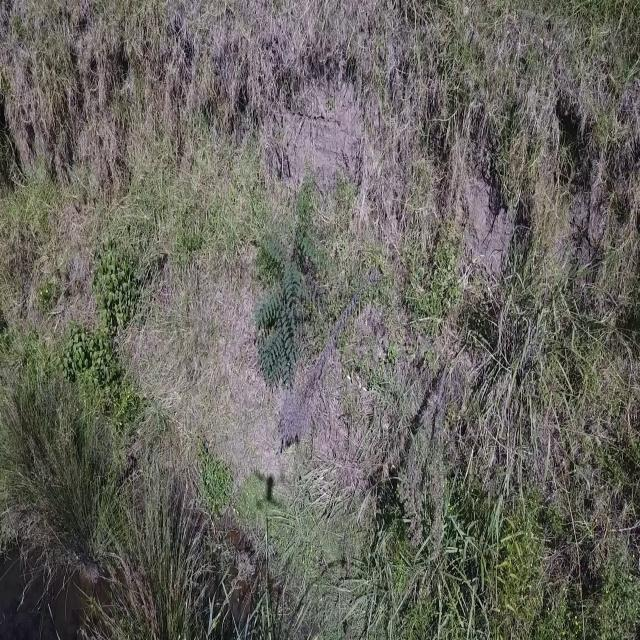Mysore-Thorn-Weed: (261, 206, 322, 386)
